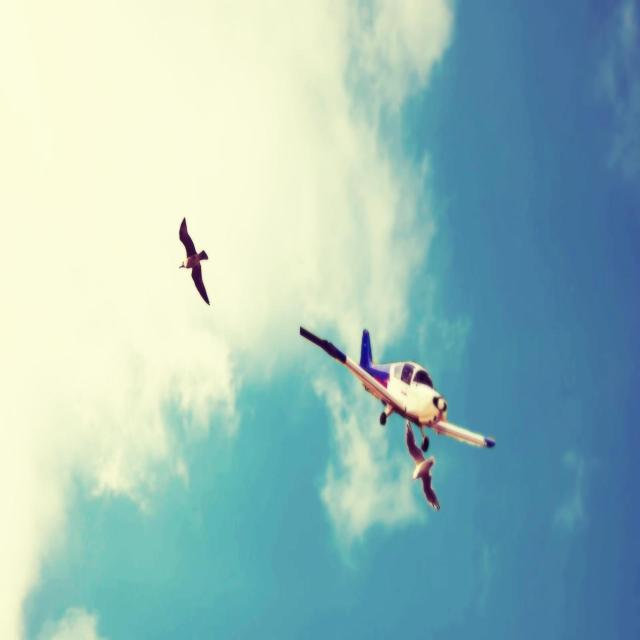airplane: (298, 324, 496, 450)
